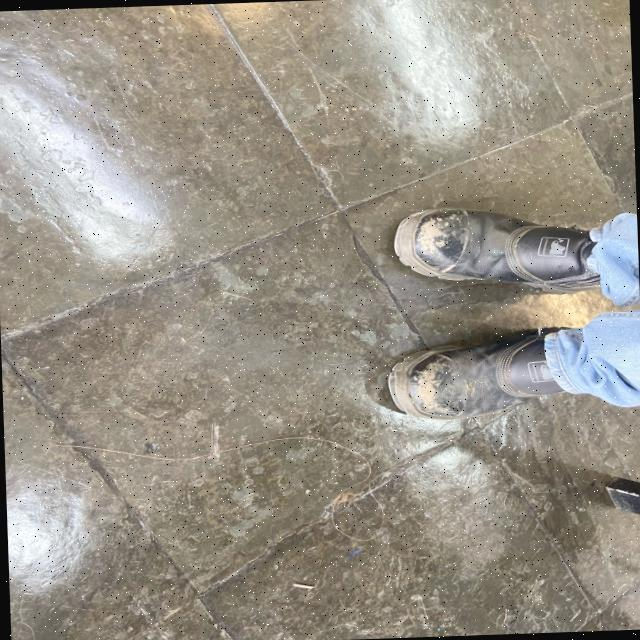BOTA: (388, 206, 617, 295), (381, 320, 574, 422)
